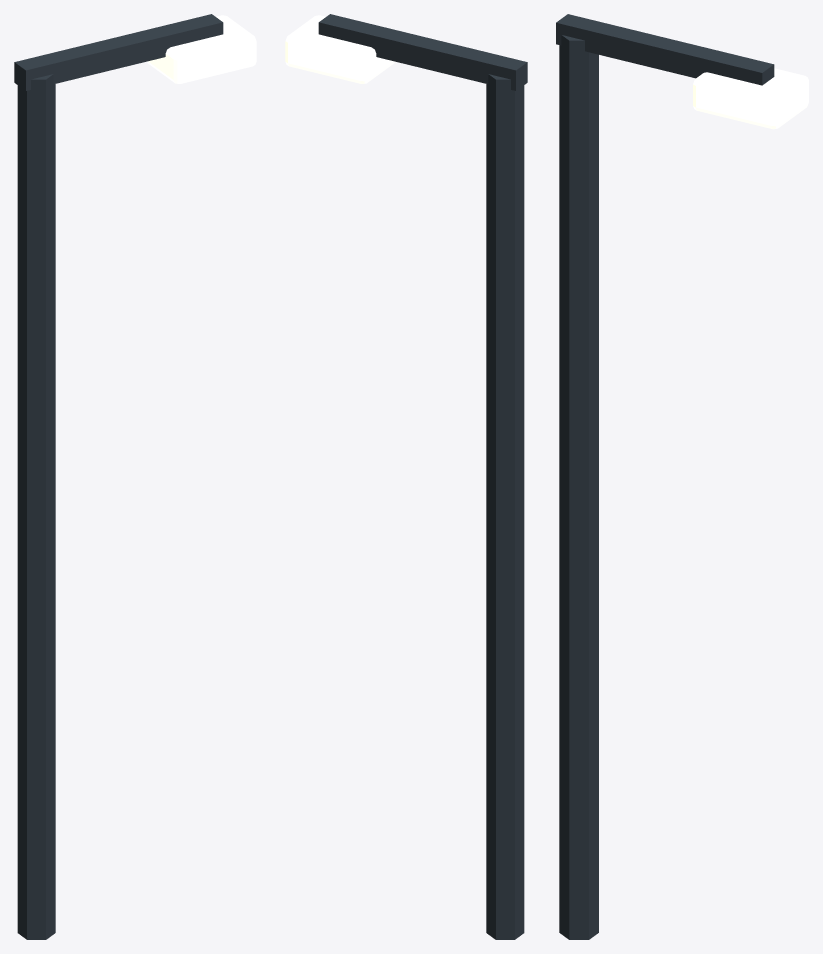
Rendered from lamp.glb.
The picture shows the model from 3 angles, left to right: view 1: azimuth 30°, elevation 25°; view 2: azimuth 150°, elevation 25°; view 3: azimuth 330°, elevation 25°; orthographic projection. The views are drawn at different scales.
Parts seen in each view (by area): view 1: Cylinder; view 2: Cylinder; view 3: Cylinder.
Boxes of the visible parts, <box> form: Cylinder: <box>14,14,256,939</box>; Cylinder: <box>285,14,527,939</box>; Cylinder: <box>556,14,808,939</box>.
Bounding box in the file's own units: 1.35 × 5.06 × 0.35.
